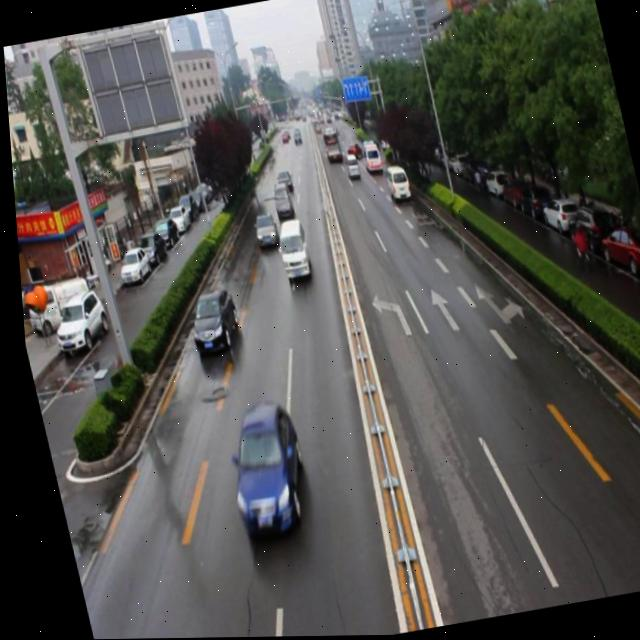car: (205, 396, 315, 545), (178, 284, 243, 357), (247, 211, 276, 248), (271, 168, 290, 193)
truck: (266, 218, 312, 283), (379, 162, 409, 206), (265, 182, 294, 222), (356, 138, 380, 175), (340, 155, 357, 179)
